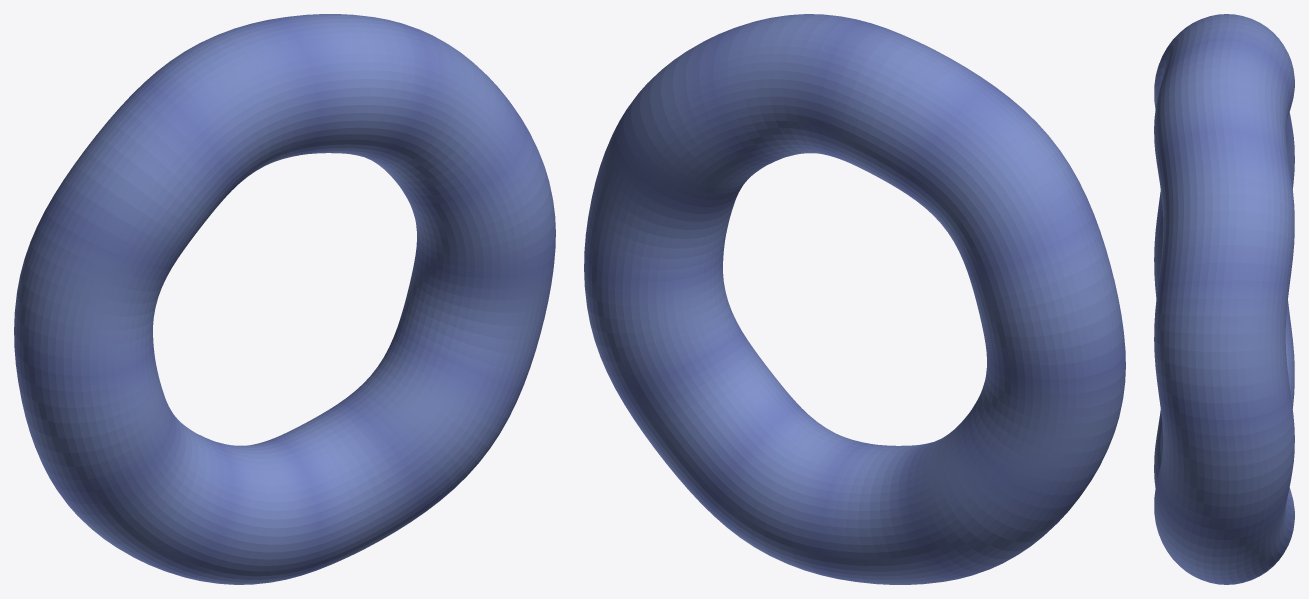
Rendered from step_1.glb.
The picture shows the model from 3 angles, left to right: view 1: azimuth 30°, elevation 25°; view 2: azimuth 150°, elevation 25°; view 3: azimuth 270°, elevation 25°; orthographic projection. The views are drawn at different scales.
Parts seen in each view (by area): view 1: world; view 2: world; view 3: world.
Part boxes in pixels (x1,y1,x2,y2): world: (14,14,555,584); world: (584,14,1125,584); world: (1154,14,1294,584).
Size of the model in its own units: 26 by 26 by 6.41.
